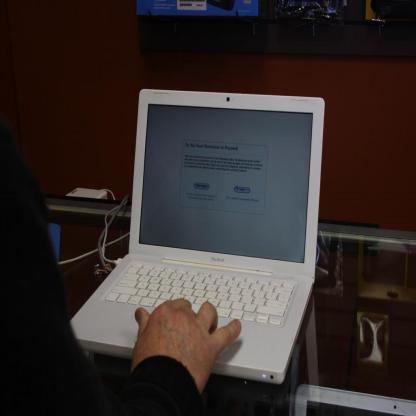board: (70, 86, 330, 387)
